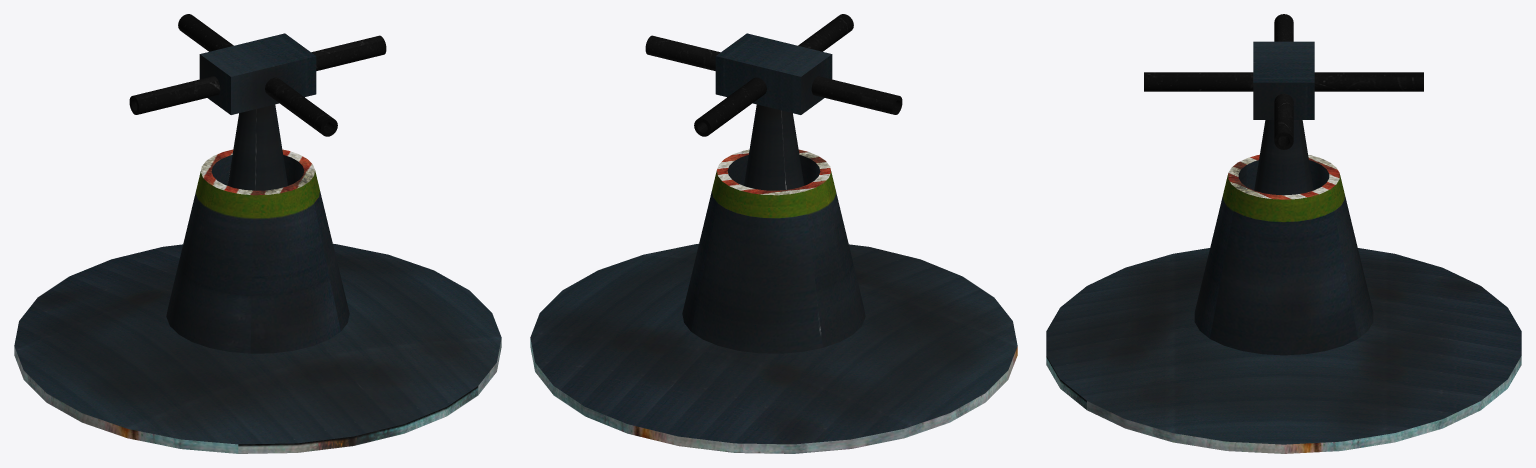
The model's file is towerC_Yellow.fbx.
3 views of the same model, side by side, from view 1: azimuth 30°, elevation 25°; view 2: azimuth 150°, elevation 25°; view 3: azimuth 270°, elevation 25° (orthographic).
Parts seen in each view (by area): view 1: polySurface1; view 2: polySurface1; view 3: polySurface1.
Part boxes in pixels (x1,y1,x2,y2): polySurface1: [14, 14, 501, 453]; polySurface1: [530, 14, 1017, 453]; polySurface1: [1046, 14, 1521, 453].
Bounding box in the file's own units: 30.16 × 20.21 × 29.94.
Materials: 1 (1 with a texture image).
